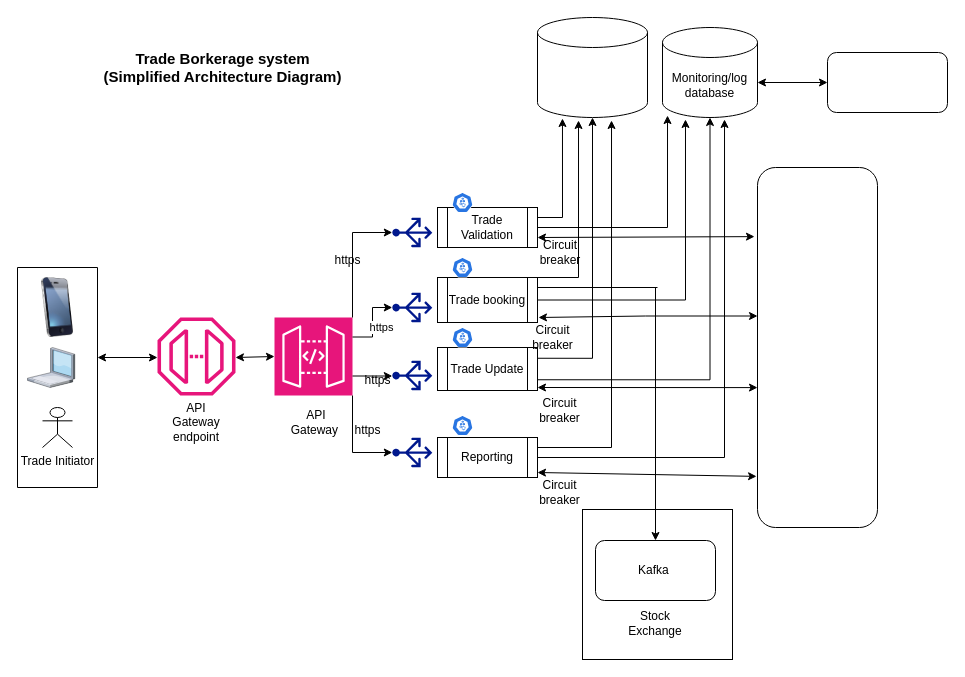
The diagram is 965 pixels wide and 677 high, and some of its shapes have lost their labels. Each missing label, with the box of its shape:
Kafka MQ (internal for inter service communication): (756, 166, 878, 528)
Monitoring system: (826, 52, 948, 112)
Oracle Database: (536, 16, 648, 118)
